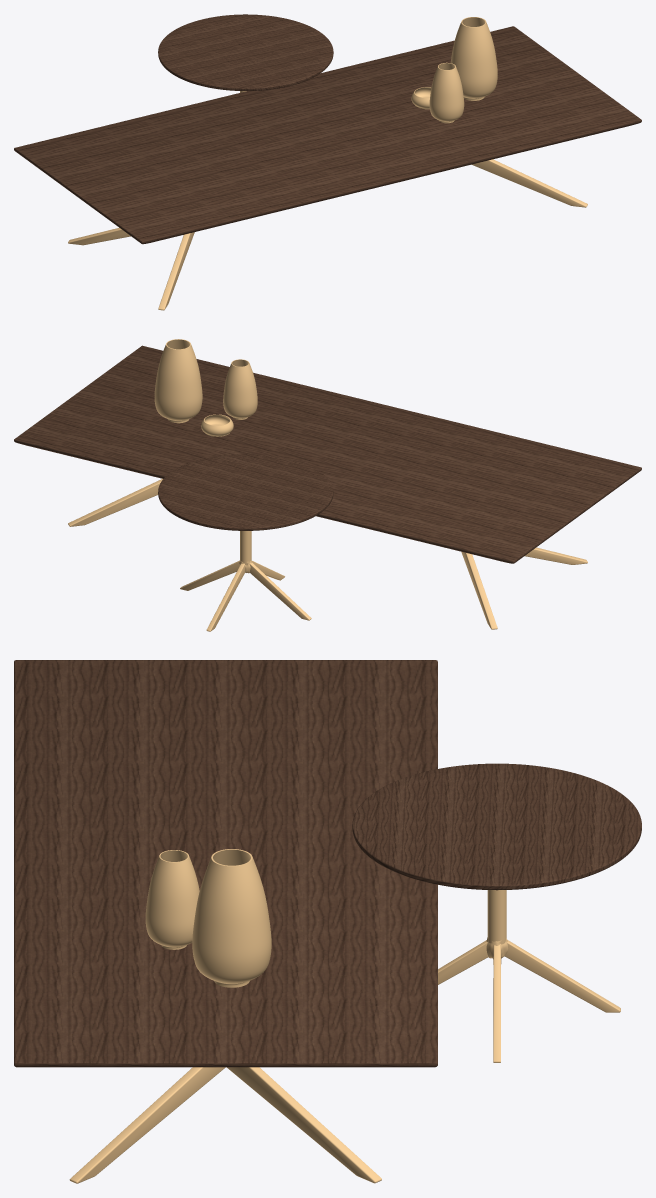
Rendered from modern_coffee_table.glb.
3 renders of one model, top to bottom at view 1: azimuth 30°, elevation 25°; view 2: azimuth 150°, elevation 25°; view 3: azimuth 270°, elevation 25°, orthographic. The views are drawn at different scales.
Visible parts, largest first — view 1: table top, tool top, vase, table leg 1, vase.001, table leg 2; view 2: table top, tool top, vase, table leg 2, vase.001, tool leg 1, ashtray, tool leg 2, table leg 1, tool leg 3; view 3: table top, tool top, vase, vase.001, table leg 1, table leg 2, tool leg 2, tool leg stand, tool leg 3, tool leg 4.
Boxes of the visible parts, x1,y1,x2,y2 form: table top: [14, 26, 641, 244]; tool top: [158, 14, 333, 90]; vase: [450, 17, 497, 100]; table leg 1: [158, 159, 587, 310]; vase.001: [429, 62, 464, 123]; table leg 2: [68, 227, 130, 245]; table top: [14, 345, 641, 563]; tool top: [158, 454, 333, 530]; vase: [154, 339, 202, 423]; table leg 2: [68, 479, 497, 629]; vase.001: [223, 359, 257, 419]; tool leg 1: [249, 562, 311, 620]; ashtray: [201, 414, 233, 436]; tool leg 2: [206, 563, 245, 631]; table leg 1: [524, 547, 587, 564]; tool leg 3: [180, 560, 239, 590]; table top: [14, 660, 437, 1067]; tool top: [352, 763, 641, 890]; vase: [192, 849, 271, 987]; vase.001: [145, 850, 199, 949]; table leg 1: [69, 1067, 225, 1183]; table leg 2: [227, 1067, 381, 1183]; tool leg 2: [505, 940, 620, 1012]; tool leg stand: [487, 890, 506, 944]; tool leg 3: [493, 944, 500, 1062]; tool leg 4: [438, 940, 488, 984].
Bounding box in the file's own units: 1.8 × 0.5678 × 1.19.
Materials: 3 (2 with a texture image).
